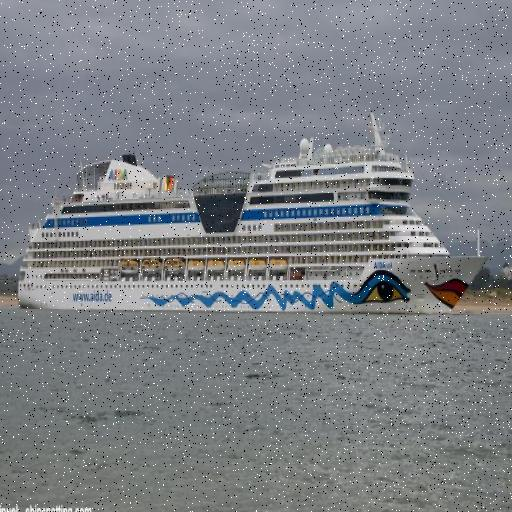cruises: (13, 109, 466, 322)
